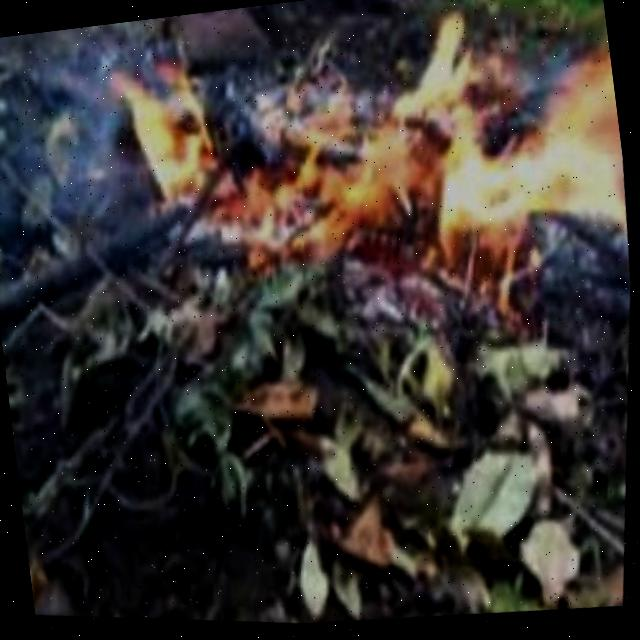fire: (88, 35, 418, 285), (369, 0, 632, 267)
